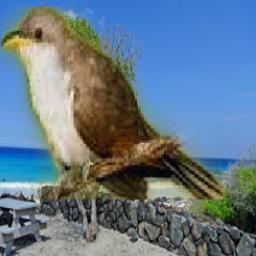Cuckoo: (0, 7, 225, 201)
